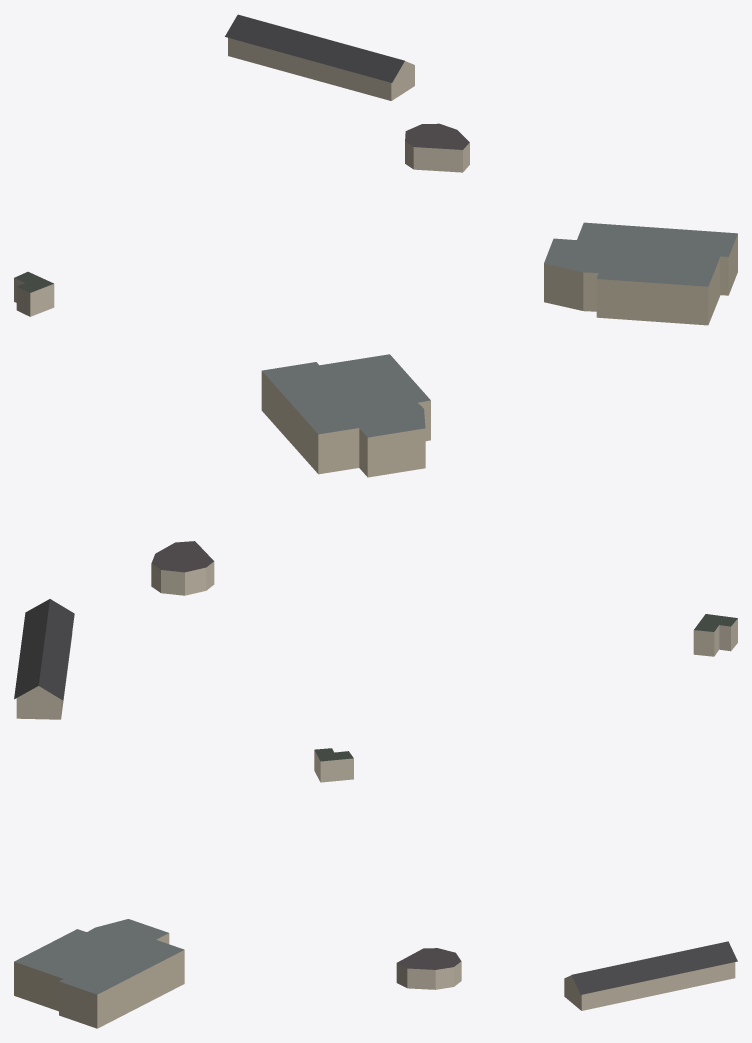
3 views of the same model, one above another, from view 1: azimuth 30°, elevation 25°; view 2: azimuth 150°, elevation 25°; view 3: azimuth 270°, elevation 25° (orthographic). The views are drawn at different scales.
Visible parts, largest first — view 1: tuile; view 2: tuile; view 3: tuile.
Boxes of the visible parts, x1,y1,x2,y2 form: tuile: (14,14,737,325); tuile: (14,354,737,719); tuile: (14,748,737,1028).
Size of the model in its own units: 104 by 7.1 by 126.
